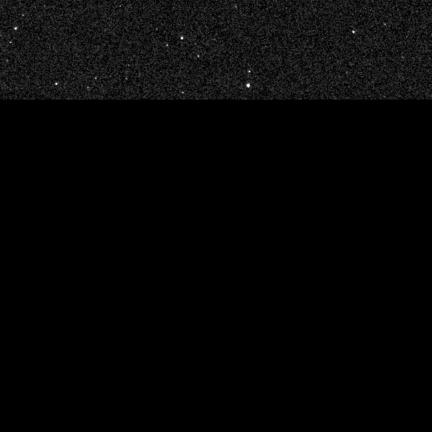blob: (14, 27, 18, 31), (181, 37, 184, 41), (55, 83, 58, 86), (95, 77, 98, 80), (247, 84, 250, 87), (353, 31, 356, 34), (248, 71, 251, 73), (167, 44, 169, 47), (198, 55, 200, 58), (182, 92, 184, 94)
